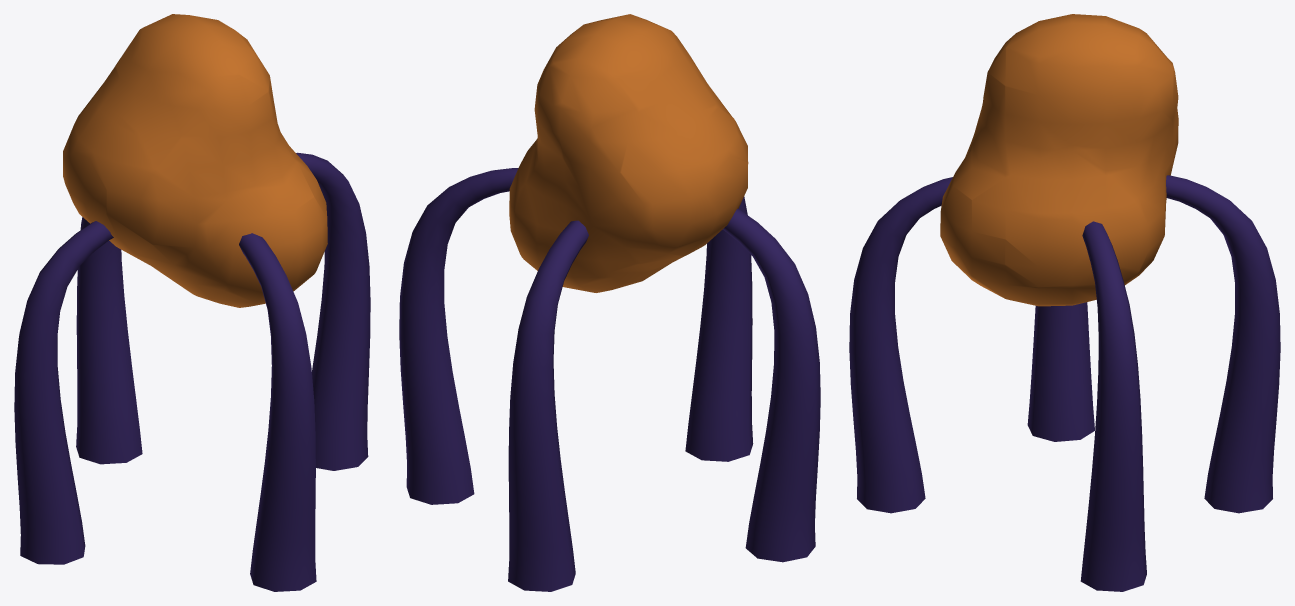
The model's file is Tree Blob 3.glb.
The picture shows the model from 3 angles, left to right: view 1: azimuth 30°, elevation 25°; view 2: azimuth 150°, elevation 25°; view 3: azimuth 270°, elevation 25°; orthographic projection. The views are drawn at different scales.
Parts seen in each view (by area): view 1: Tree_Blob_3; view 2: Tree_Blob_3; view 3: Tree_Blob_3.
Boxes of the visible parts, x1,y1,x2,y2 form: Tree_Blob_3: [14, 14, 370, 591]; Tree_Blob_3: [399, 14, 820, 591]; Tree_Blob_3: [849, 14, 1280, 591].
Bounding box in the file's own units: 2.8 × 3.42 × 2.77.
1 material, 1 textured.
